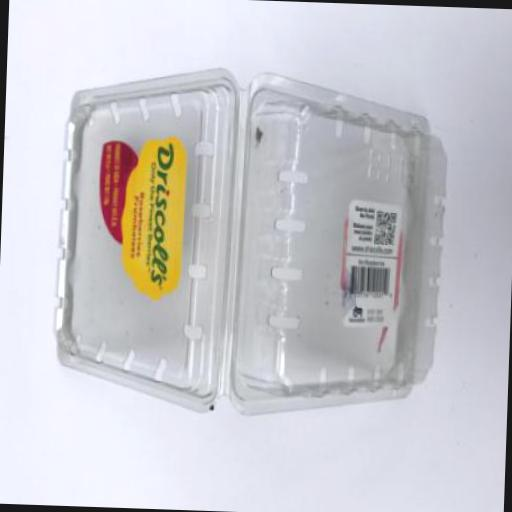plastic: (50, 60, 448, 418), (228, 70, 447, 422), (49, 60, 234, 414)
